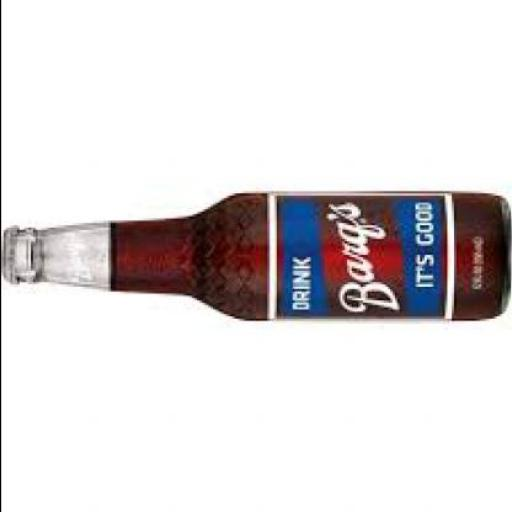glass: (9, 191, 508, 323)
metal: (1, 231, 14, 288)
